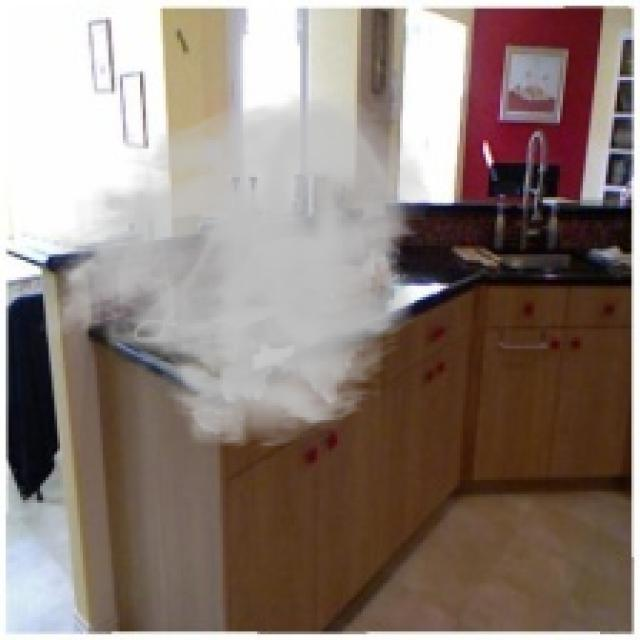smoke: (37, 89, 434, 452)
